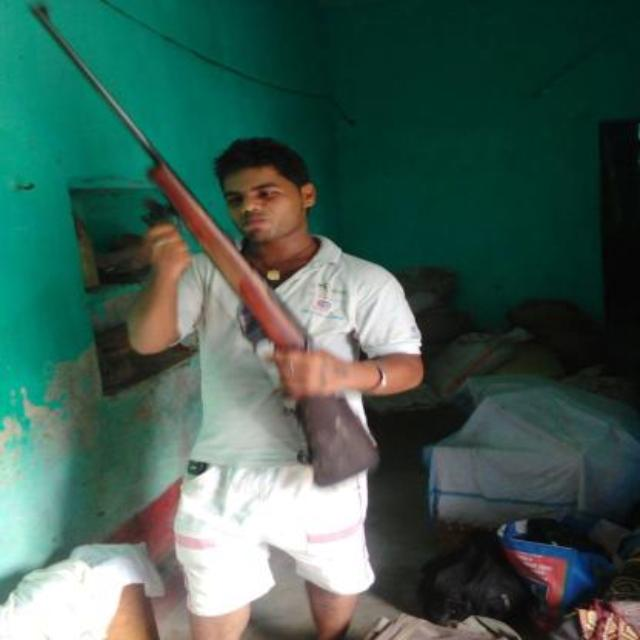rifle: (19, 1, 390, 476)
